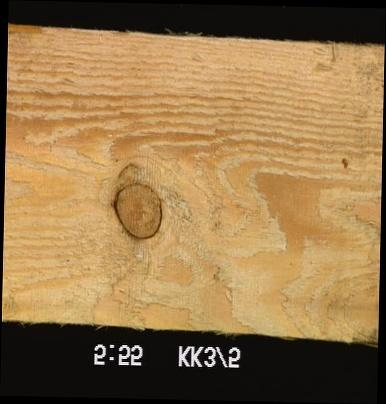dry_knot: (108, 182, 163, 241)
